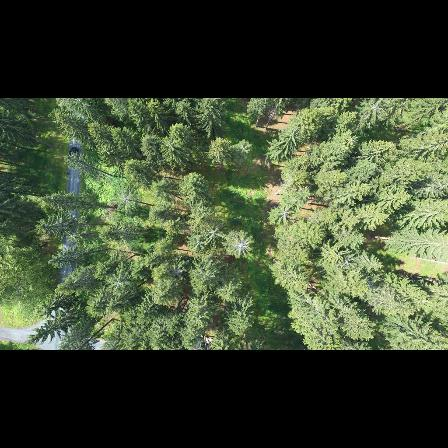Sick: (222, 229, 256, 262), (202, 222, 228, 245), (64, 228, 84, 248)
